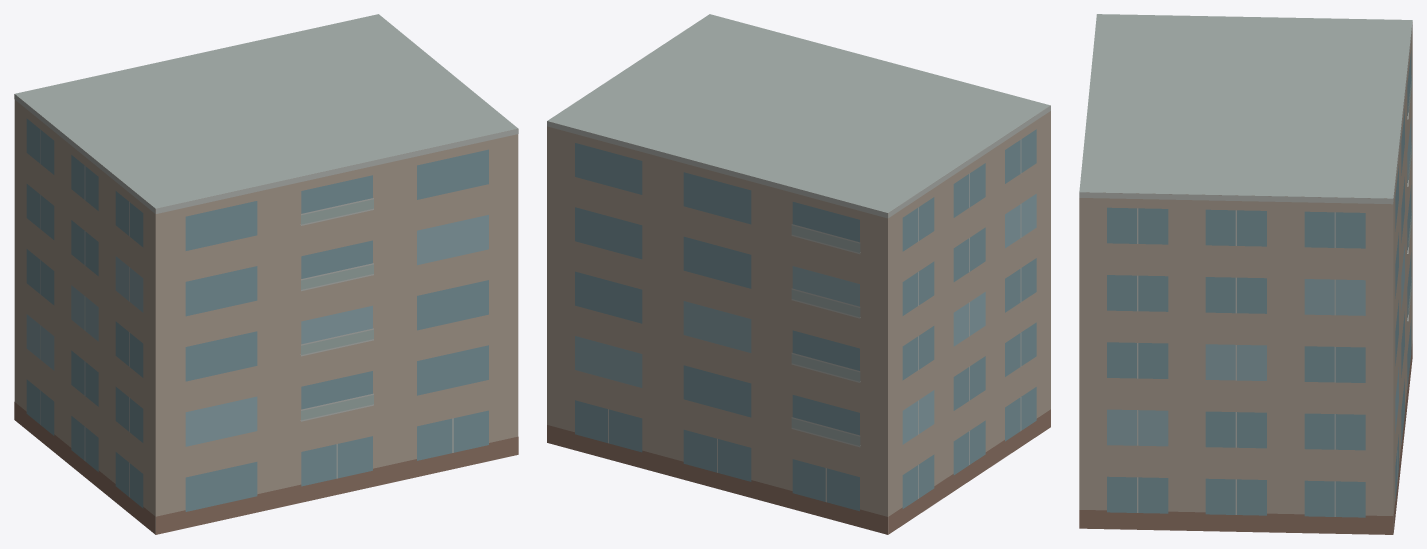
File: survey-upis-32664685.glb
3 renders of one model, left to right at view 1: azimuth 30°, elevation 25°; view 2: azimuth 150°, elevation 25°; view 3: azimuth 270°, elevation 25°, orthographic. The views are drawn at different scales.
Parts seen in each view (by area): view 1: survey-upis-32664685.tmp; view 2: survey-upis-32664685.tmp; view 3: survey-upis-32664685.tmp.
Part boxes in pixels (x1=…): survey-upis-32664685.tmp: x1=14, y1=14, x2=518, y2=534; survey-upis-32664685.tmp: x1=547, y1=14, x2=1050, y2=534; survey-upis-32664685.tmp: x1=1079, y1=14, x2=1412, y2=534.
Bounding box in the file's own units: 17.19 × 14.6 × 13.13.
